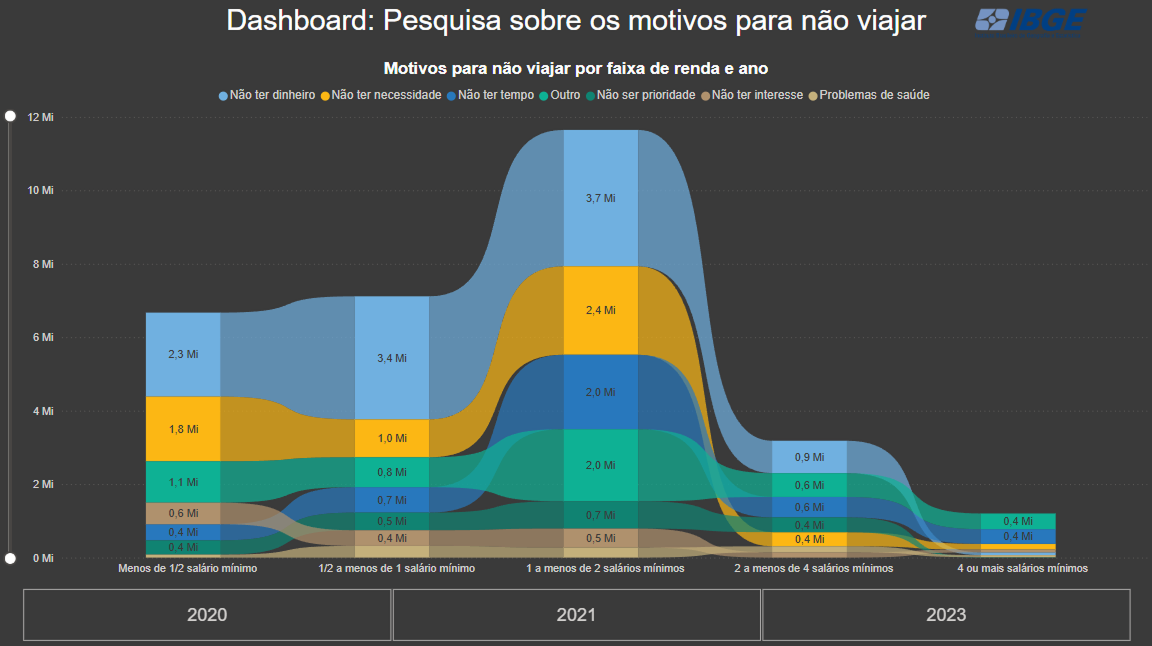

This screenshot's page, from the dashboard's own definition file:
{"tool":"powerbi","page":{"name":"Página 1","canvas":[1280,720],"ordinal":0},"visuals":[{"type":"textbox","box":[116.7,0,1046.7,55],"z":0},{"type":"image","box":[1078.3,0,135,55],"z":1000},{"type":"ribbonChart","title":"Motivos para não viajar por faixa de renda e ano","fields":{"Y":["Sum(base_ibge.Não ter dinheiro)","Sum(base_ibge.Não ter necessidade)","Sum(base_ibge.Não ter tempo)","Sum(base_ibge.Outro)","Sum(base_ibge.Não ser prioridade)","Sum(base_ibge.Não ter interesse)","Sum(base_ibge.Problemas de saúde)"],"Category":["base_ibge.Rendimento mensal domiciliar per capita"]},"box":[0,66.7,1280,581.7],"z":2000},{"type":"slicer","fields":{"Values":["base_ibge.Ano"]},"box":[0,648.3,1280,71.7],"z":3000}]}

Visuals, with their boxes in screenshot pixels (x1, y1, x2, y2), scaled from the page's 1280x720 canvas onto the 1152x646 screenshot:
textbox: 105:0:1047:49
image: 970:0:1092:49
"Motivos para não viajar por faixa de renda e ano" ribbonChart: 0:60:1151:582
slicer - base_ibge.Ano: 0:582:1151:645
